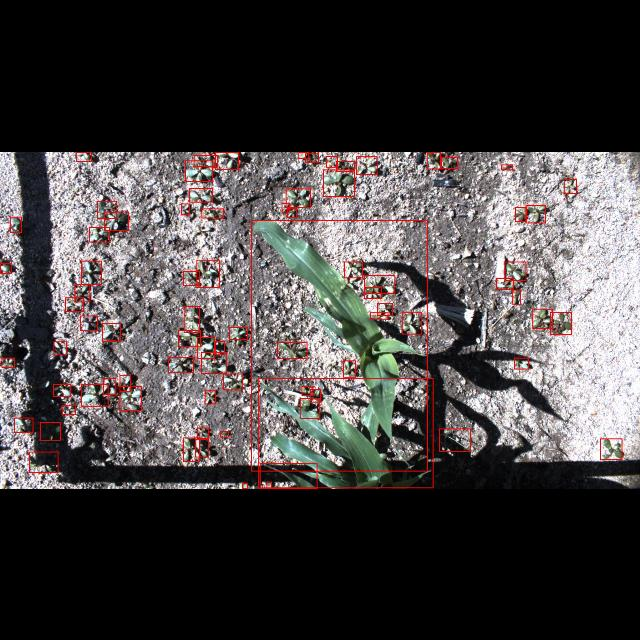crop: (251, 220, 427, 470), (259, 378, 433, 488), (260, 464, 316, 488)
weed: (324, 168, 354, 196), (440, 428, 470, 452), (197, 259, 220, 287), (80, 384, 108, 406), (30, 452, 59, 472), (365, 275, 395, 293), (185, 160, 212, 180), (120, 386, 142, 410), (550, 312, 572, 334), (277, 342, 307, 358), (81, 260, 101, 284), (105, 210, 129, 230), (202, 352, 226, 372), (600, 438, 622, 459), (504, 260, 526, 280), (286, 188, 310, 206), (402, 312, 422, 333), (184, 306, 200, 332), (168, 356, 194, 372), (533, 308, 553, 328), (300, 398, 320, 418), (183, 437, 199, 461), (215, 152, 239, 168), (357, 155, 377, 173), (526, 204, 546, 222), (40, 422, 60, 440), (198, 337, 215, 358), (178, 330, 200, 346), (102, 323, 120, 341), (98, 200, 116, 218), (223, 373, 243, 389), (89, 226, 109, 242), (190, 187, 212, 201), (344, 261, 362, 277), (74, 283, 90, 301), (194, 154, 218, 166), (13, 418, 32, 432), (184, 270, 200, 286), (80, 316, 98, 330), (65, 297, 83, 311), (229, 326, 247, 339), (342, 360, 356, 376), (427, 152, 441, 168), (196, 439, 208, 457), (364, 286, 382, 298), (54, 384, 70, 396), (10, 216, 22, 232), (442, 156, 458, 168), (104, 378, 116, 394), (496, 278, 514, 288), (336, 160, 354, 170), (202, 208, 224, 216), (564, 179, 576, 193), (378, 303, 392, 315), (120, 375, 130, 391), (204, 391, 216, 404), (54, 342, 66, 354), (515, 358, 529, 368), (516, 206, 526, 220), (310, 388, 320, 402), (215, 341, 225, 354), (76, 152, 92, 160), (327, 156, 338, 167), (2, 357, 14, 367), (0, 263, 12, 273), (513, 289, 521, 303), (62, 406, 76, 414), (370, 312, 388, 318), (198, 428, 208, 438), (306, 152, 318, 160), (181, 202, 189, 214), (302, 386, 312, 394), (287, 208, 297, 216), (299, 151, 309, 157), (282, 202, 288, 212), (502, 164, 512, 168), (266, 482, 272, 488), (220, 432, 228, 436), (242, 484, 248, 488)
